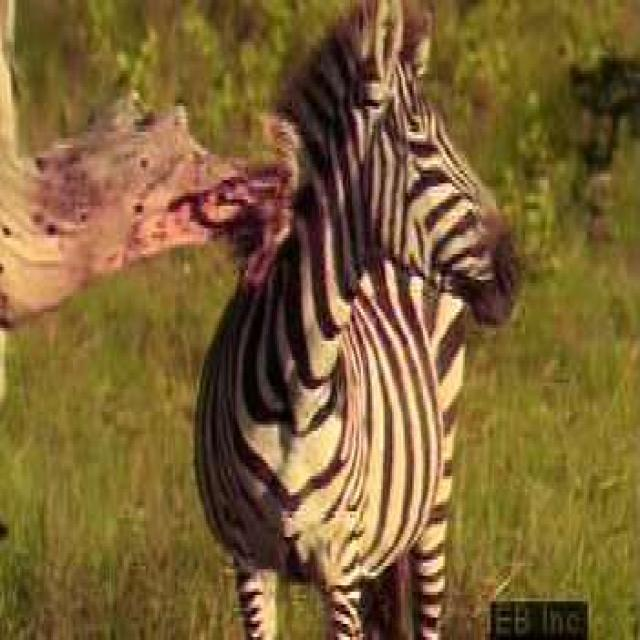Zebra: (197, 3, 523, 640)
